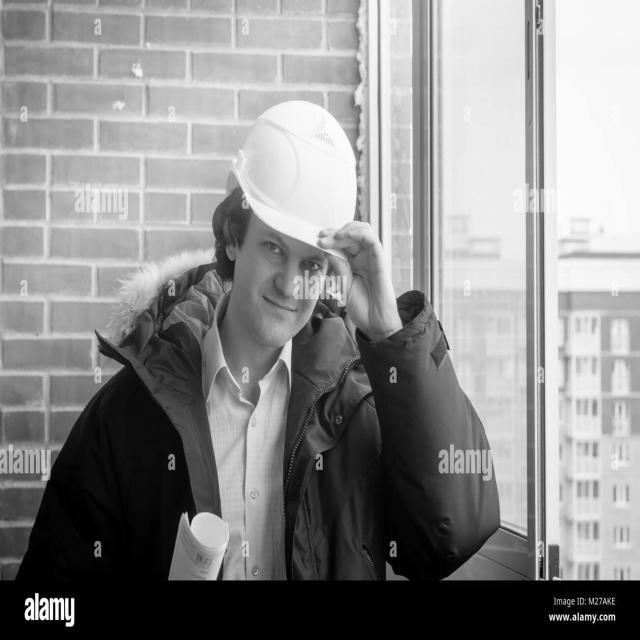construction helmet: (231, 103, 357, 246)
